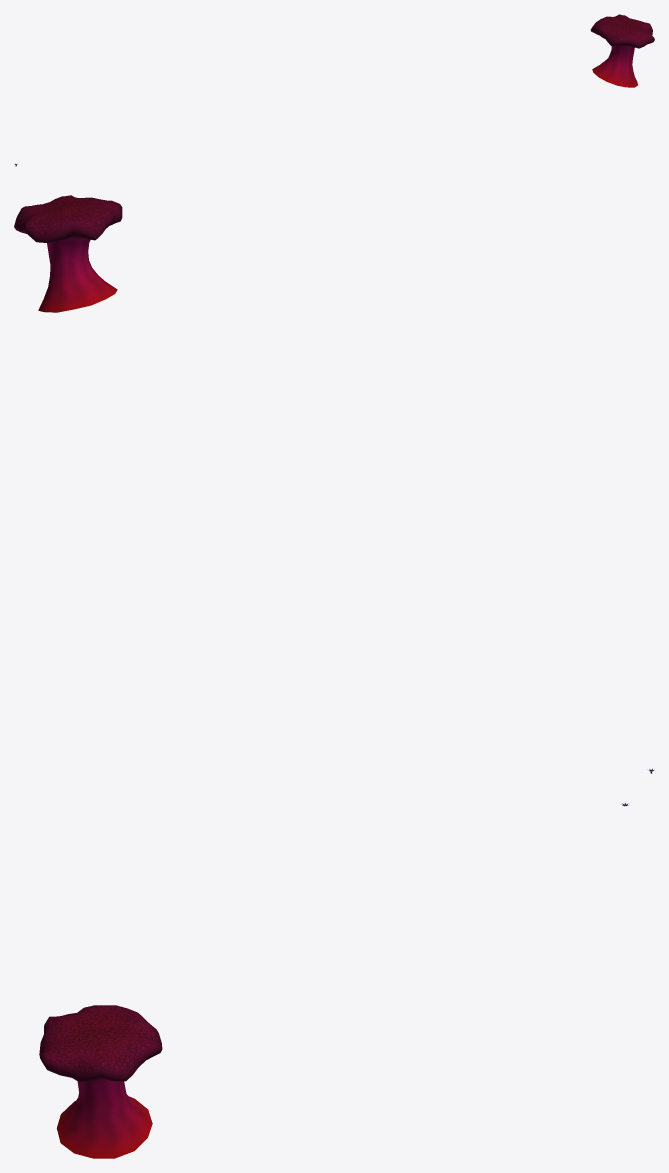
The model's file is toadstool_leather.glb.
3 views of the same model, one above another, from view 1: azimuth 30°, elevation 25°; view 2: azimuth 150°, elevation 25°; view 3: azimuth 270°, elevation 25° (orthographic). The views are drawn at different scales.
Visible parts, largest first — view 1: Body; view 2: Body; view 3: Body.
Part boxes in pixels (box(x1,y1,x2,y2)): Body: box(590, 14, 654, 87); Body: box(14, 195, 122, 312); Body: box(39, 1005, 162, 1158).
Bounding box in the file's own units: 64.97 × 15.22 × 32.83.
3 materials, 3 textured.
